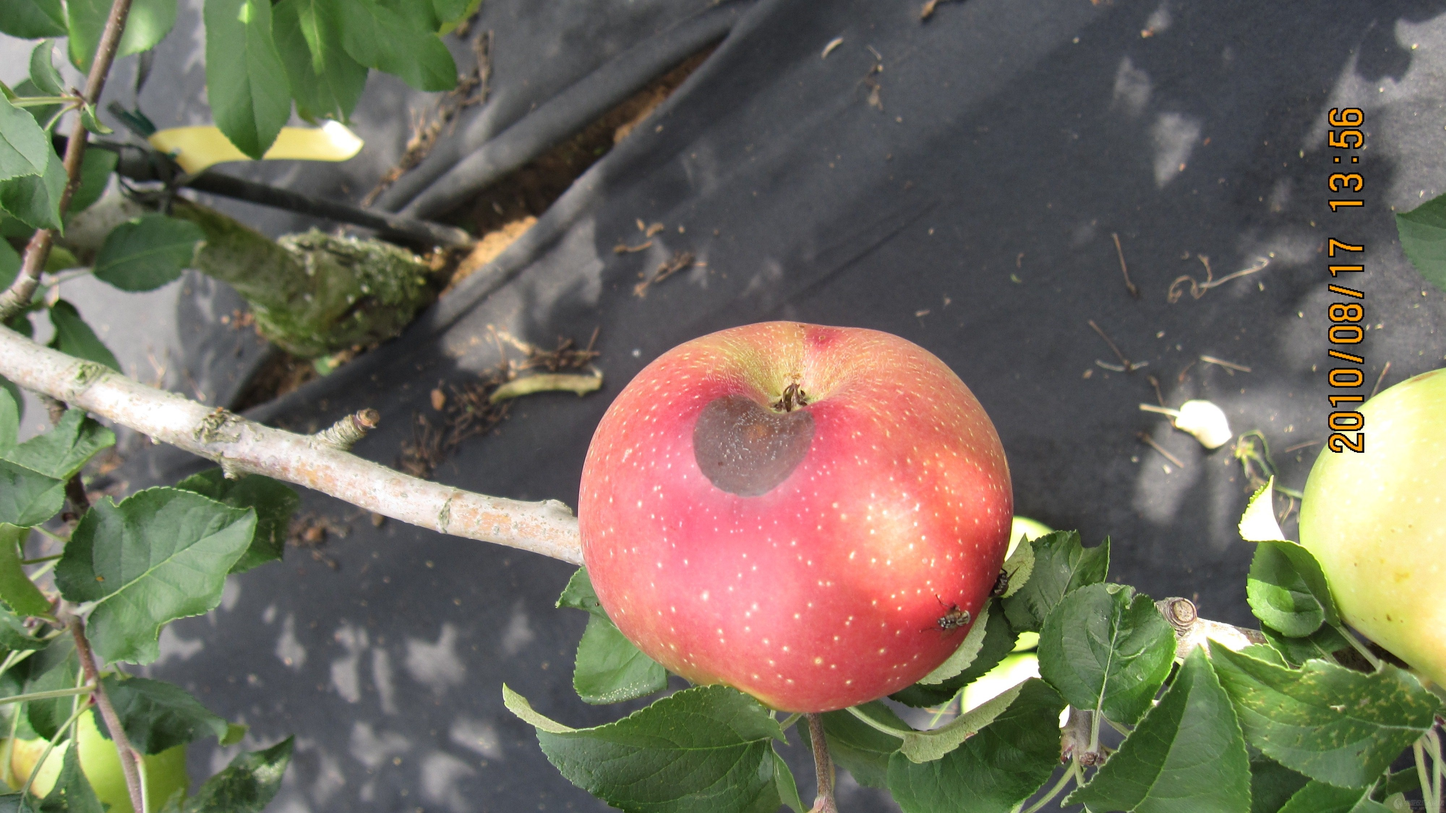defect: (679, 368, 841, 511)
